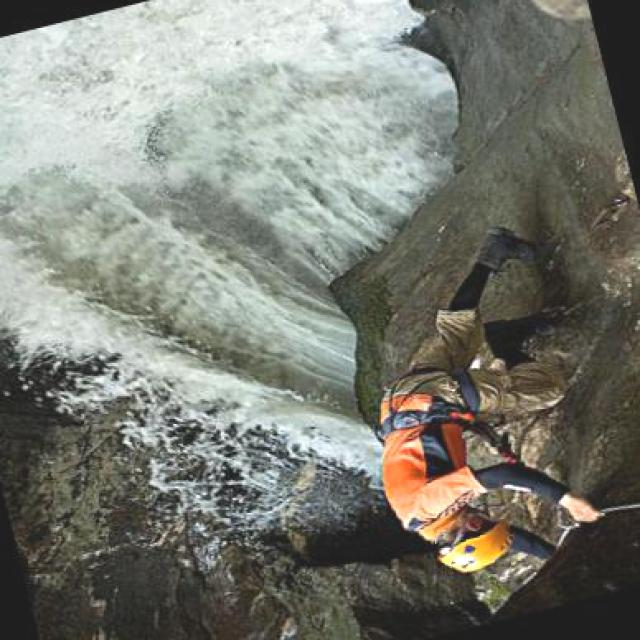helmet: (435, 520, 510, 575)
